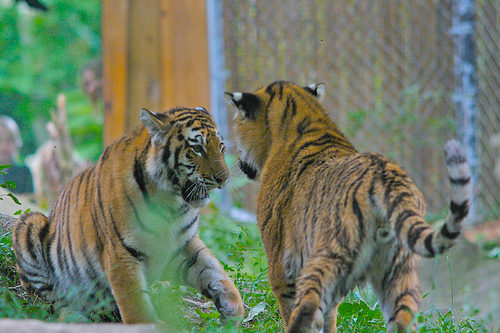Tigre: (225, 77, 468, 323), (23, 105, 230, 312)
